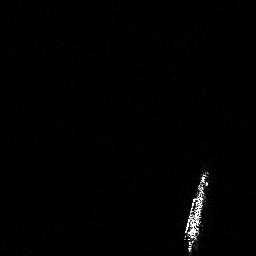ship: (178, 165, 216, 256)
